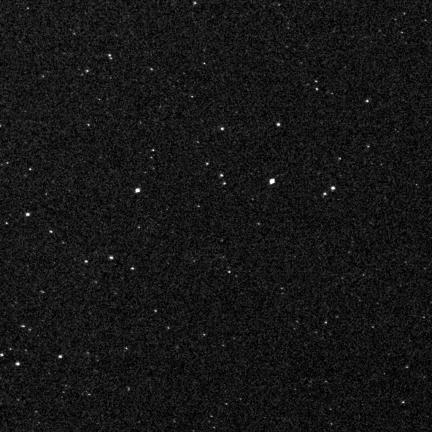blob: (135, 188, 140, 193), (270, 179, 275, 184)
